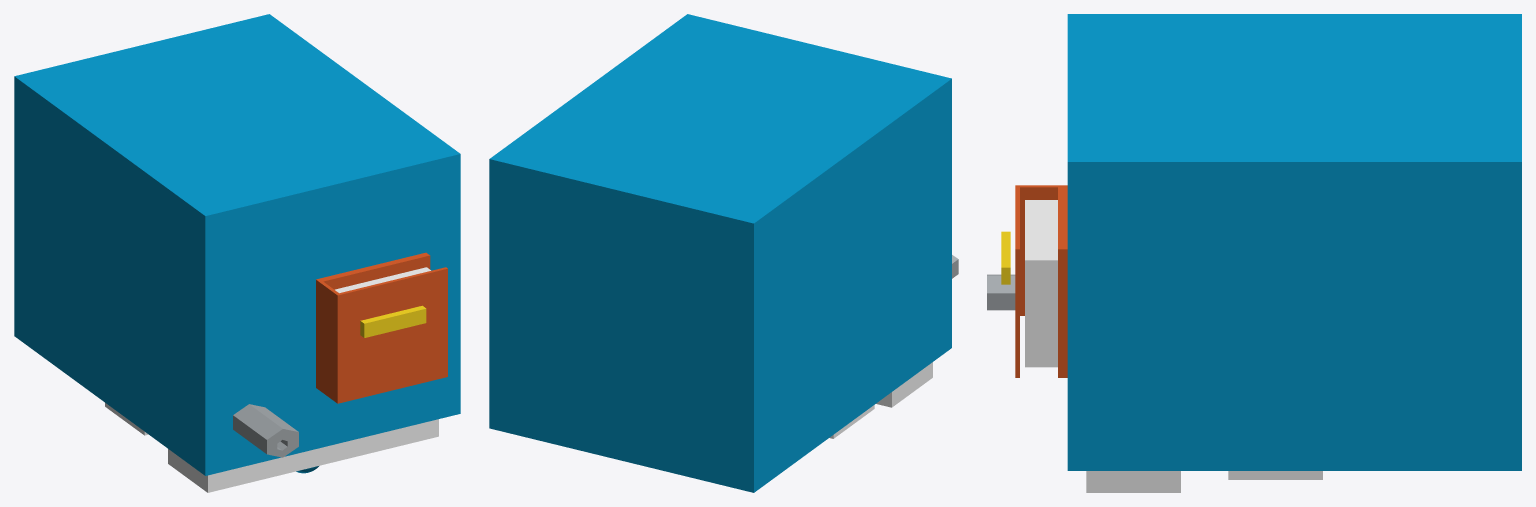
Rendered from tinker.obj.
3 views of the same model, side by side, from view 1: azimuth 30°, elevation 25°; view 2: azimuth 150°, elevation 25°; view 3: azimuth 270°, elevation 25° (orthographic). The views are drawn at different scales.
Parts seen in each view (by area): view 1: group_0_40919, group_0_14900002, group_0_16448250, group_0_10988977, group_0_16768282; view 2: group_0_40919, group_0_16448250; view 3: group_0_40919, group_0_16448250, group_0_14900002, group_0_10988977.
Boxes of the visible parts, bbox=[...] form: group_0_40919: bbox=[14, 14, 460, 475]; group_0_14900002: bbox=[316, 252, 447, 403]; group_0_16448250: bbox=[105, 267, 438, 492]; group_0_10988977: bbox=[233, 404, 298, 457]; group_0_16768282: bbox=[360, 305, 426, 337]; group_0_40919: bbox=[489, 14, 951, 492]; group_0_16448250: bbox=[829, 362, 932, 438]; group_0_40919: bbox=[1067, 14, 1521, 470]; group_0_16448250: bbox=[1025, 200, 1322, 492]; group_0_14900002: bbox=[1015, 185, 1067, 377]; group_0_10988977: bbox=[987, 274, 1015, 310].
Size of the model in its own units: 74 by 86 by 113.
